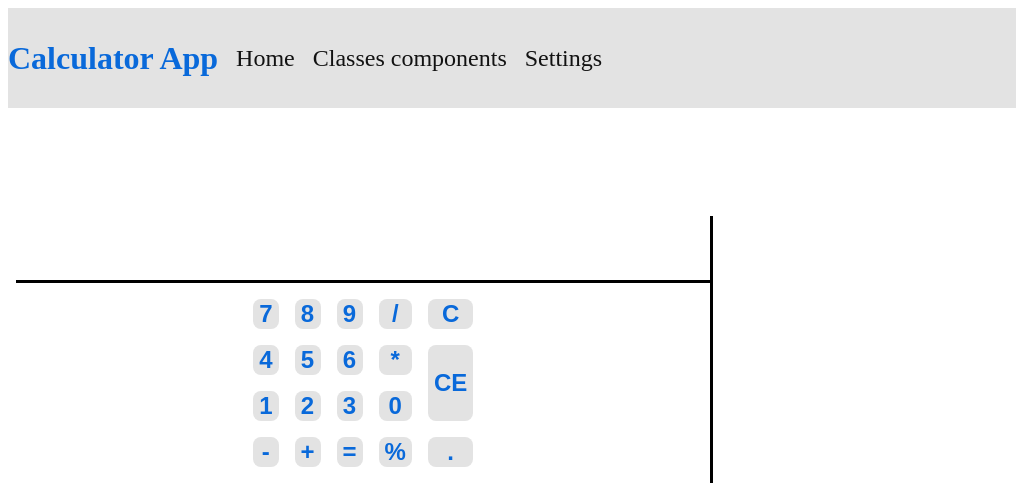
Scenario: App E2E › should have a display
Step 1. Click the button "2" → click(308, 406), box [295,391,321,421]
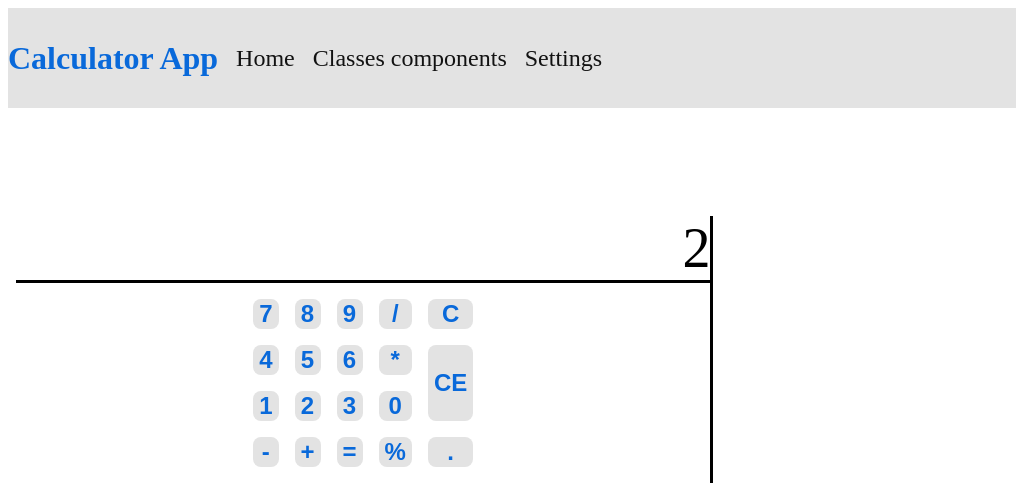
Step 2. Click the button "-" → click(266, 452), box [253,437,278,467]
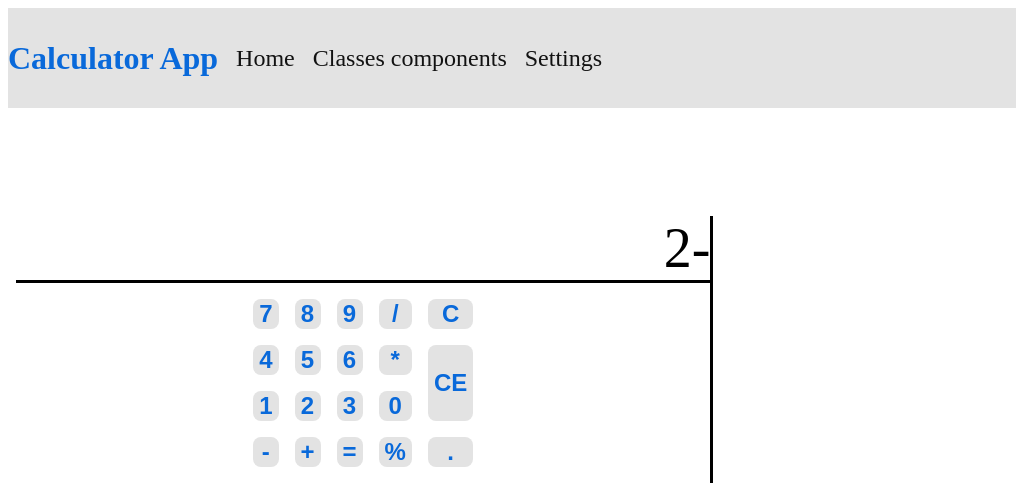
Step 3. Click the button "4" → click(266, 360), box [253,345,278,375]
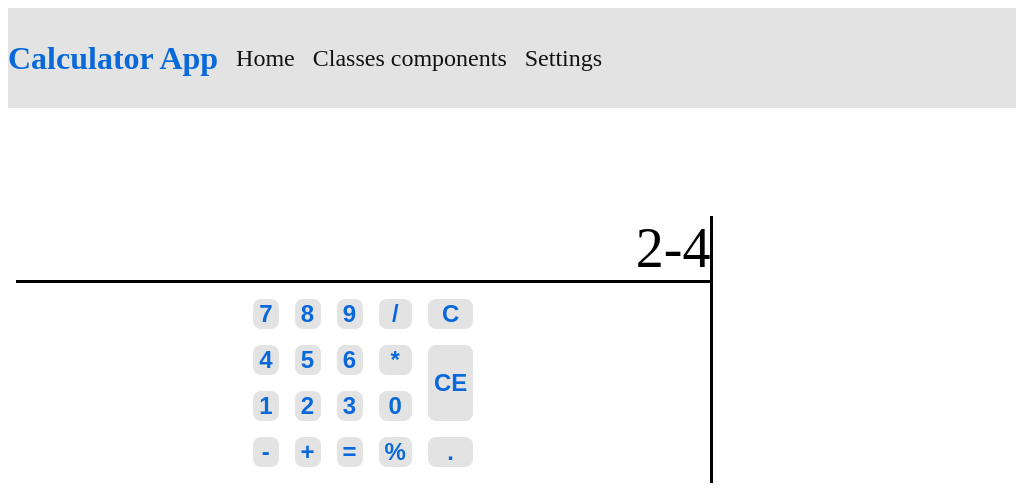
Now the text "2-4" is shown, box [16,216,710,283]
